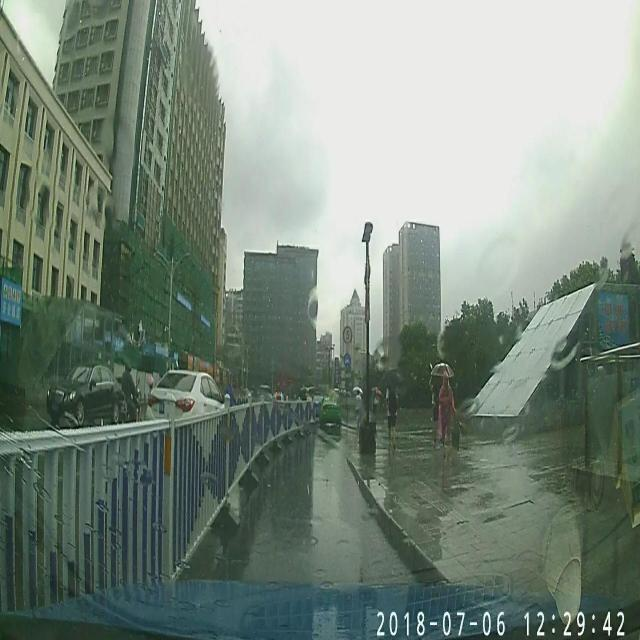car: (146, 370, 228, 454), (46, 358, 129, 422), (320, 393, 344, 430)
